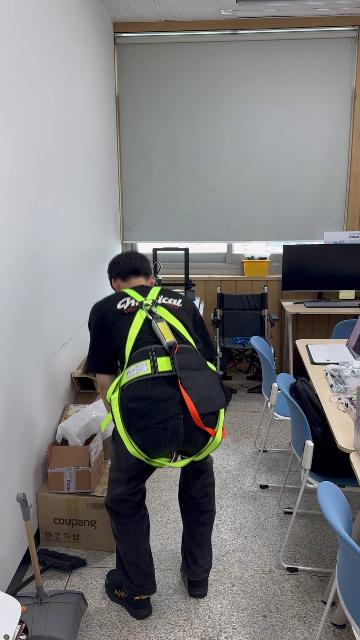helmet_not_worn: (106, 251, 154, 287)
shoe_worn: (105, 572, 153, 621), (180, 563, 209, 596)
vest_worn: (102, 287, 228, 467)
